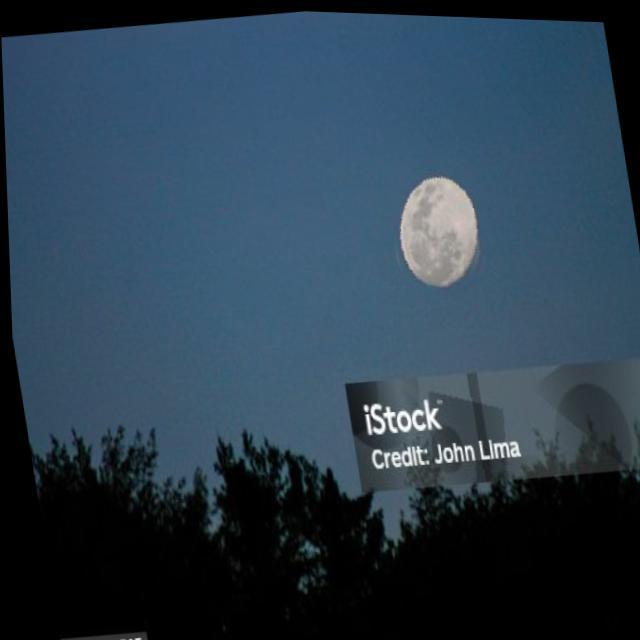moon: (369, 158, 490, 300)
